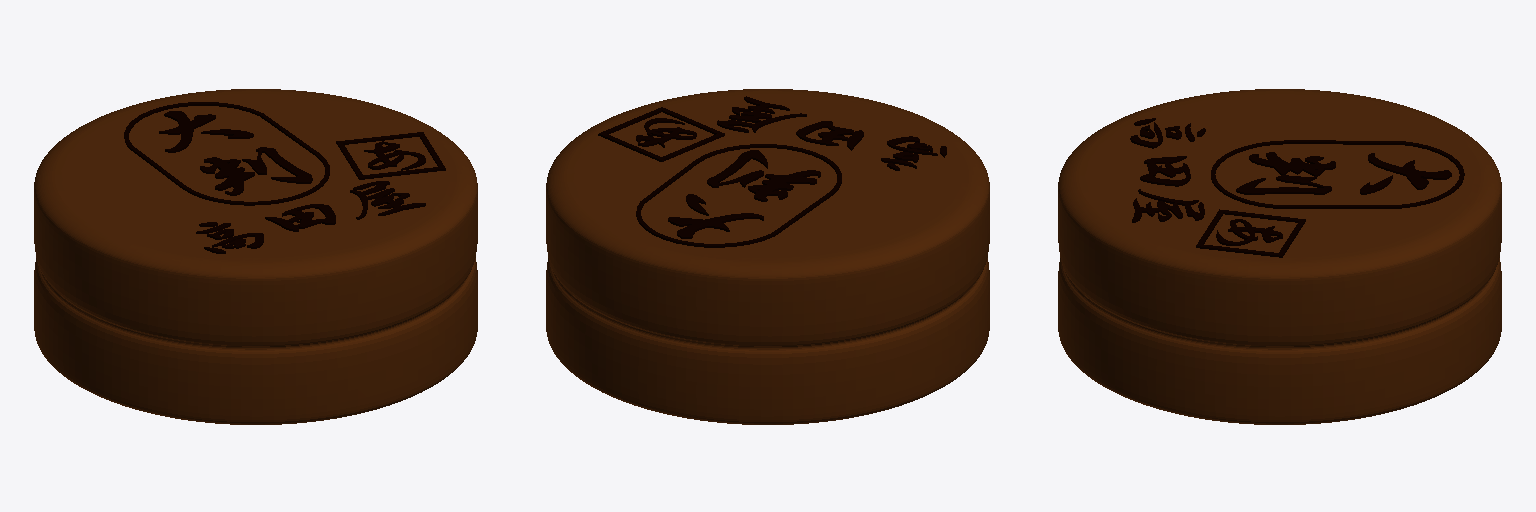
Rendered from 大判焼き.obj.
3 renders of one model, left to right at view 1: azimuth 30°, elevation 25°; view 2: azimuth 150°, elevation 25°; view 3: azimuth 270°, elevation 25°, orthographic.
Visible parts, largest first — view 1: 円柱, 円, テキスト, 平面; view 2: 円柱, 円, テキスト, 平面; view 3: 円柱, 円, テキスト, 平面.
Boxes of the visible parts, <box> form: 円柱: <box>34,89,477,424</box>; 円: <box>124,102,329,205</box>; テキスト: <box>196,181,425,253</box>; 平面: <box>336,132,445,179</box>; 円柱: <box>546,89,989,424</box>; 円: <box>636,144,841,247</box>; テキスト: <box>717,96,946,170</box>; 平面: <box>598,107,724,161</box>; 円柱: <box>1058,89,1501,424</box>; 円: <box>1211,140,1464,208</box>; テキスト: <box>1130,118,1205,222</box>; 平面: <box>1196,209,1305,257</box>.
Size of the model in its own units: 1.99 by 0.8099 by 1.99.